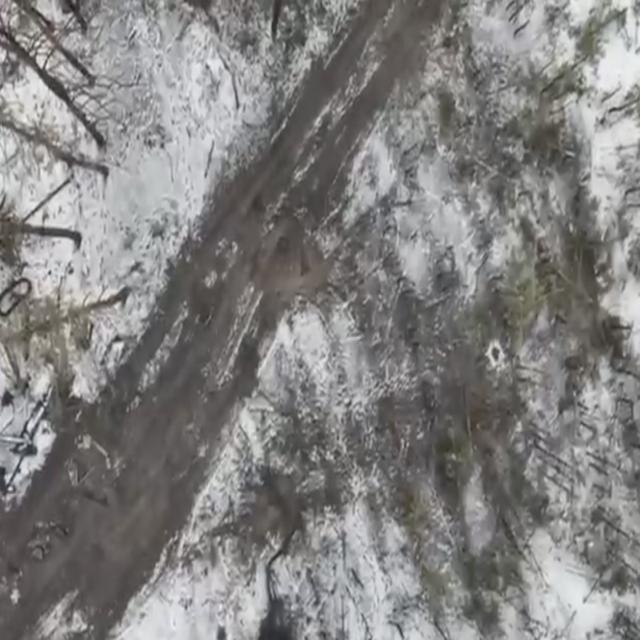vehicle: (26, 518, 58, 562), (62, 453, 89, 494)
